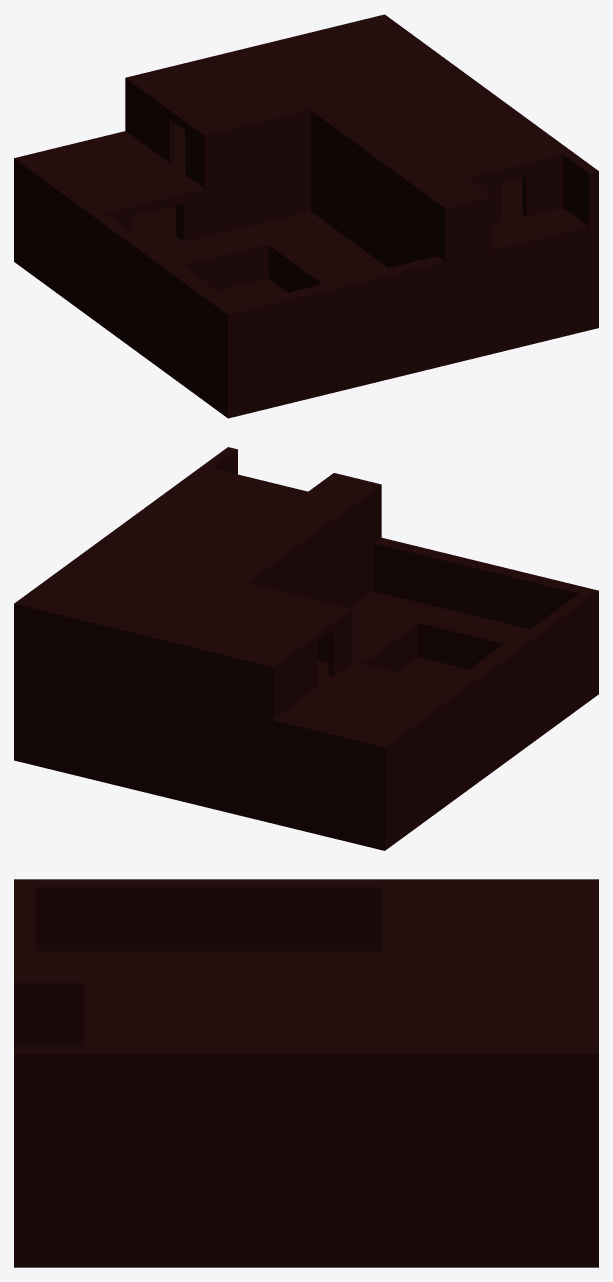
3 views of the same model, one above another, from view 1: azimuth 30°, elevation 25°; view 2: azimuth 150°, elevation 25°; view 3: azimuth 270°, elevation 25° (orthographic). The views are drawn at different scales.
Parts seen in each view (by area): view 1: imagetostl_mesh206, imagetostl_mesh23, imagetostl_mesh131, imagetostl_mesh76, imagetostl_mesh130, imagetostl_mesh46, imagetostl_mesh248, imagetostl_mesh128, imagetostl_mesh207, imagetostl_mesh209, imagetostl_mesh214, imagetostl_mesh241 (+12 smaller); view 2: imagetostl_mesh206, imagetostl_mesh133, imagetostl_mesh78, imagetostl_mesh213, imagetostl_mesh76, imagetostl_mesh130, imagetostl_mesh137, imagetostl_mesh207, imagetostl_mesh46, imagetostl_mesh214, imagetostl_mesh248, imagetostl_mesh195 (+6 smaller); view 3: imagetostl_mesh206, imagetostl_mesh132, imagetostl_mesh39, imagetostl_mesh71, imagetostl_mesh136, imagetostl_mesh195, imagetostl_mesh214, imagetostl_mesh90, imagetostl_mesh196, imagetostl_mesh87.
Part boxes in pixels (x1,y1,x2,y2): imagetostl_mesh206: (131,14,598,184); imagetostl_mesh23: (228,224,598,373); imagetostl_mesh131: (228,283,598,418); imagetostl_mesh76: (14,158,227,372); imagetostl_mesh130: (14,217,227,417); imagetostl_mesh46: (310,110,445,261); imagetostl_mesh248: (154,211,387,306); imagetostl_mesh128: (105,163,310,241); imagetostl_mesh207: (31,134,196,207); imagetostl_mesh209: (204,110,310,188); imagetostl_mesh214: (14,131,445,314); imagetostl_mesh241: (310,168,432,267); imagetostl_mesh206: (14,447,343,665); imagetostl_mesh133: (14,705,384,850); imagetostl_mesh78: (14,657,384,795); imagetostl_mesh213: (14,604,273,719); imagetostl_mesh76: (385,591,598,805); imagetostl_mesh130: (385,649,598,850); imagetostl_mesh137: (374,543,578,629); imagetostl_mesh207: (279,667,444,740); imagetostl_mesh46: (247,485,381,597); imagetostl_mesh214: (274,538,598,747); imagetostl_mesh248: (351,591,529,686); imagetostl_mesh195: (231,474,381,613); imagetostl_mesh206: (14,884,598,1053); imagetostl_mesh132: (14,1192,598,1267); imagetostl_mesh39: (14,1053,598,1126); imagetostl_mesh71: (14,1126,598,1191); imagetostl_mesh136: (35,887,382,951); imagetostl_mesh195: (14,884,403,978); imagetostl_mesh214: (14,879,598,951); imagetostl_mesh90: (14,983,84,1046); imagetostl_mesh196: (403,880,585,883); imagetostl_mesh87: (84,983,94,1046).
Bounding box in the file's own units: 103238 × 41717 × 103264.
